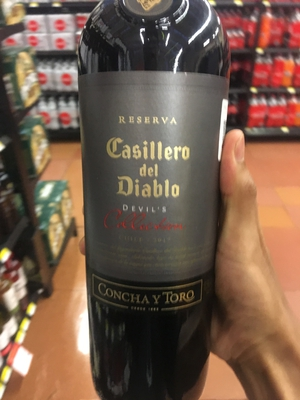casillero del diablo devils collection rojo: (78, 4, 221, 396)
